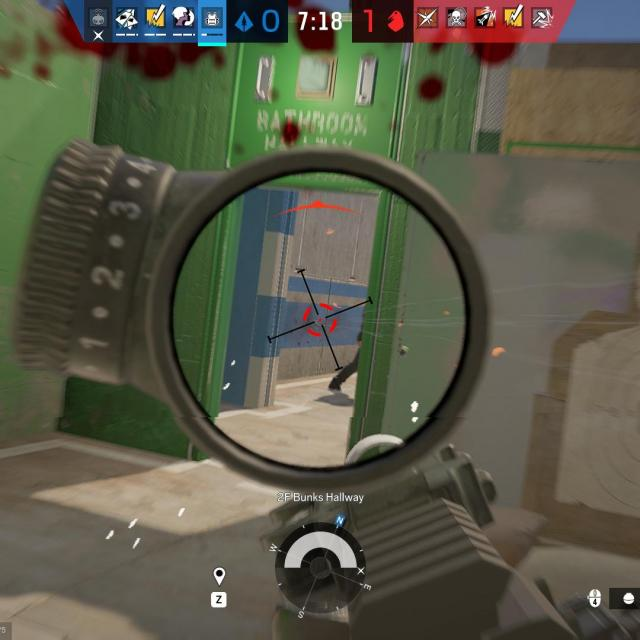Character: (328, 301, 368, 395)
